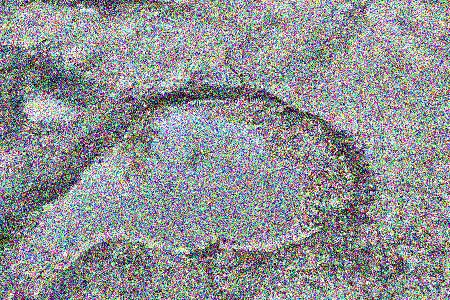pothole: (51, 79, 378, 258), (0, 56, 86, 125), (59, 0, 123, 13)
